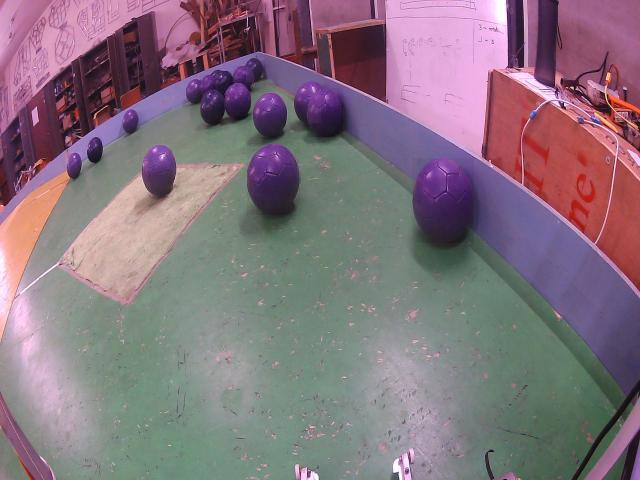jambhalya: (413, 159, 474, 243), (247, 144, 300, 215), (307, 88, 343, 137), (142, 145, 176, 196), (252, 93, 288, 137), (294, 82, 321, 123), (225, 83, 251, 120), (234, 67, 253, 89), (67, 152, 82, 178), (123, 109, 139, 133), (186, 79, 201, 103), (200, 75, 216, 96)
kaalyya: (200, 90, 225, 125), (215, 71, 233, 95), (246, 58, 264, 82), (88, 137, 102, 163), (210, 70, 222, 78)
